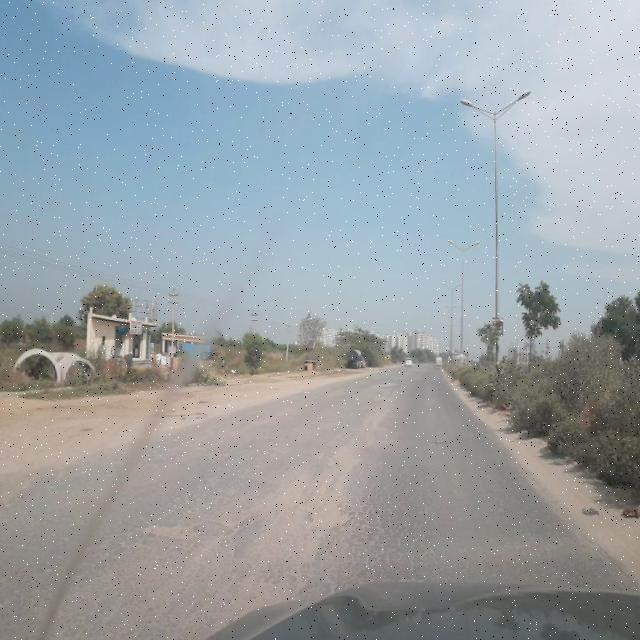D20: (67, 456, 449, 601)
D40: (288, 498, 360, 538), (130, 509, 210, 543)
